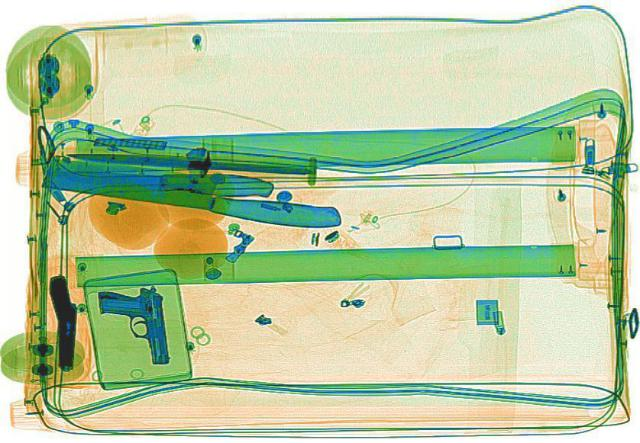Gun: (96, 283, 170, 366), (46, 273, 82, 370)
Knife: (35, 152, 348, 231), (57, 146, 310, 175), (48, 166, 272, 195)
